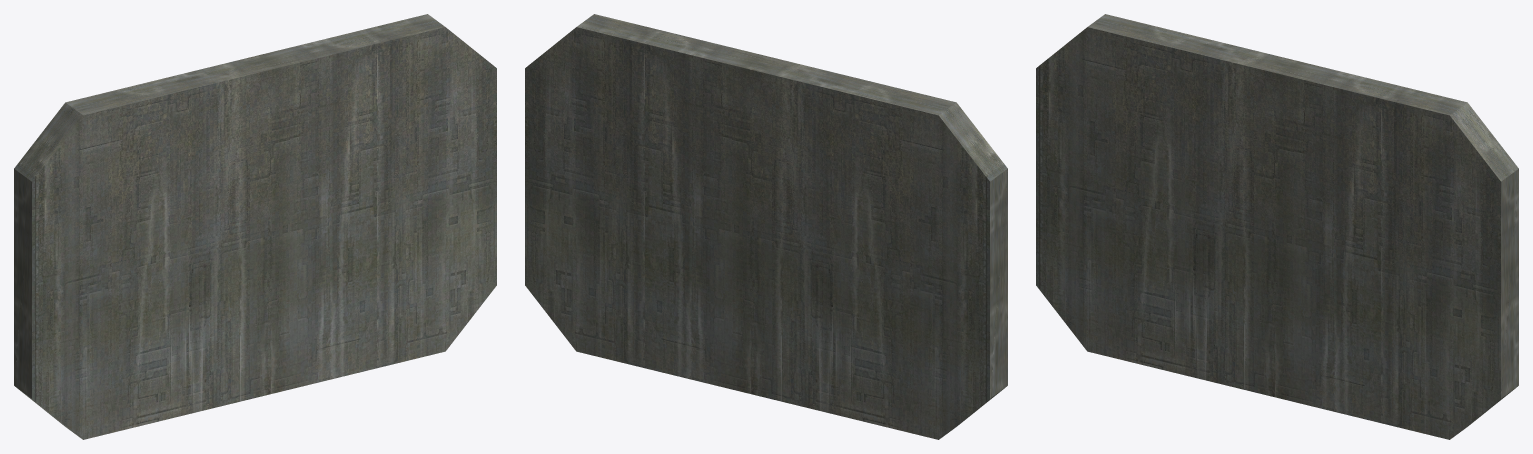
Rendered from RealityWall_4x6.fbx.
The picture shows the model from 3 angles, left to right: view 1: azimuth 30°, elevation 25°; view 2: azimuth 150°, elevation 25°; view 3: azimuth 330°, elevation 25°; orthographic projection.
Visible parts, largest first — view 1: RealityWall_4x6; view 2: RealityWall_4x6; view 3: RealityWall_4x6.
Part boxes in pixels (<box>): RealityWall_4x6: <box>14,14,496,439</box>; RealityWall_4x6: <box>525,14,1007,439</box>; RealityWall_4x6: <box>1036,14,1518,439</box>.
Bounding box in the file's own units: 600 × 400 × 40.
